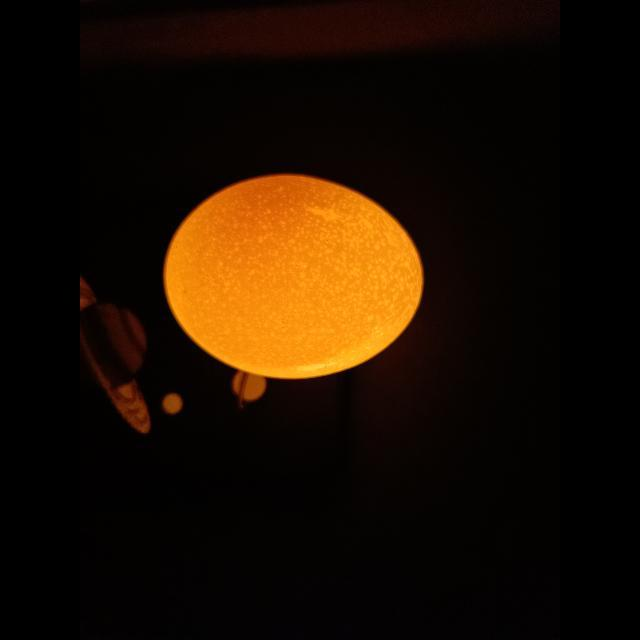AA - Premium: (164, 175, 423, 379)
